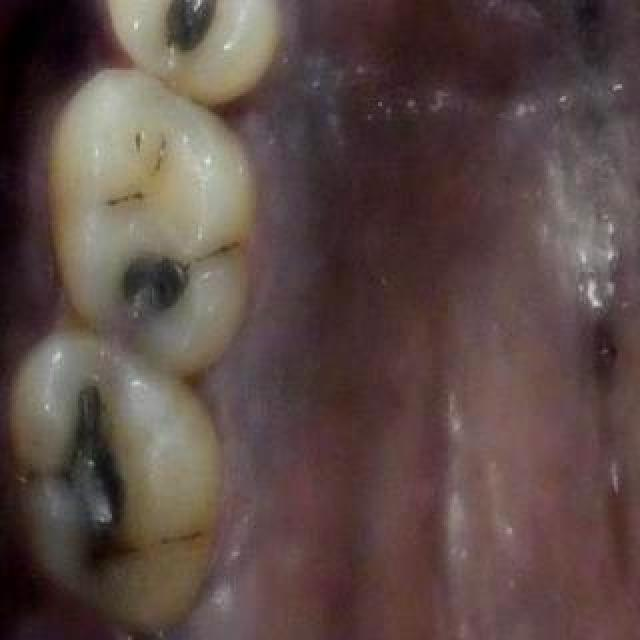cavities: (13, 335, 217, 639), (98, 120, 180, 236), (192, 223, 244, 333)
